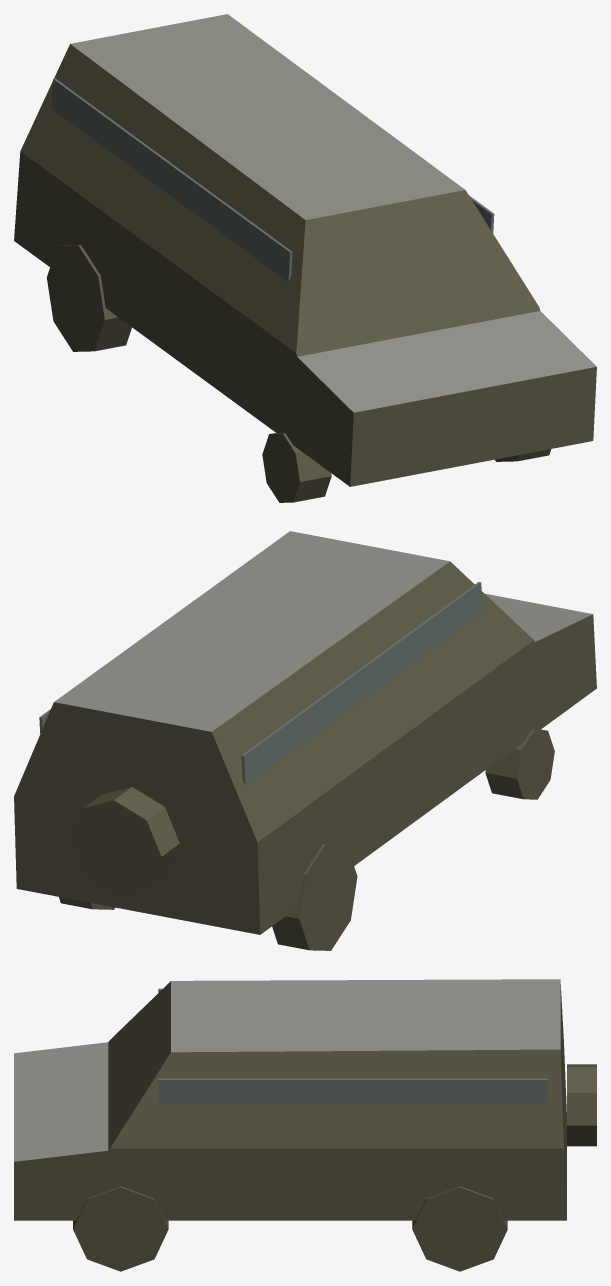
Rendered from SM_CocheCivil_Todoterreno_v2_LOD1.fbx.
3 views of the same model, one above another, from view 1: azimuth 30°, elevation 25°; view 2: azimuth 150°, elevation 25°; view 3: azimuth 270°, elevation 25° (orthographic). The views are drawn at different scales.
Visible parts, largest first — view 1: SM_coche_civil_v17_LOD1; view 2: SM_coche_civil_v17_LOD1; view 3: SM_coche_civil_v17_LOD1.
Boxes of the visible parts, bbox=[...] form: SM_coche_civil_v17_LOD1: bbox=[14, 14, 596, 502]; SM_coche_civil_v17_LOD1: bbox=[14, 531, 596, 950]; SM_coche_civil_v17_LOD1: bbox=[14, 979, 596, 1271].
Size of the model in its own units: 1.92 by 1.9 by 4.64.
